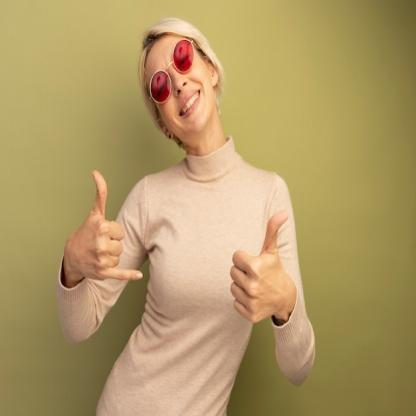thumb_up: (226, 208, 290, 326)
